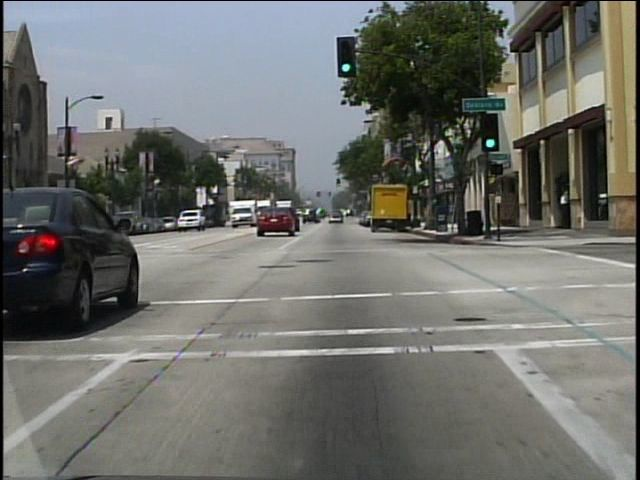person: (559, 190, 570, 230)
